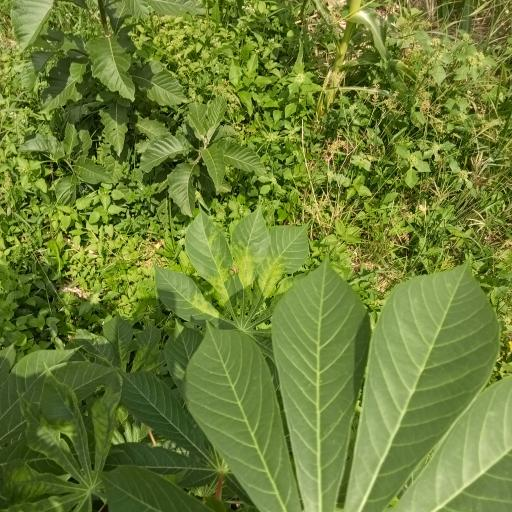Cassava_Healthy: (191, 266, 512, 512)
